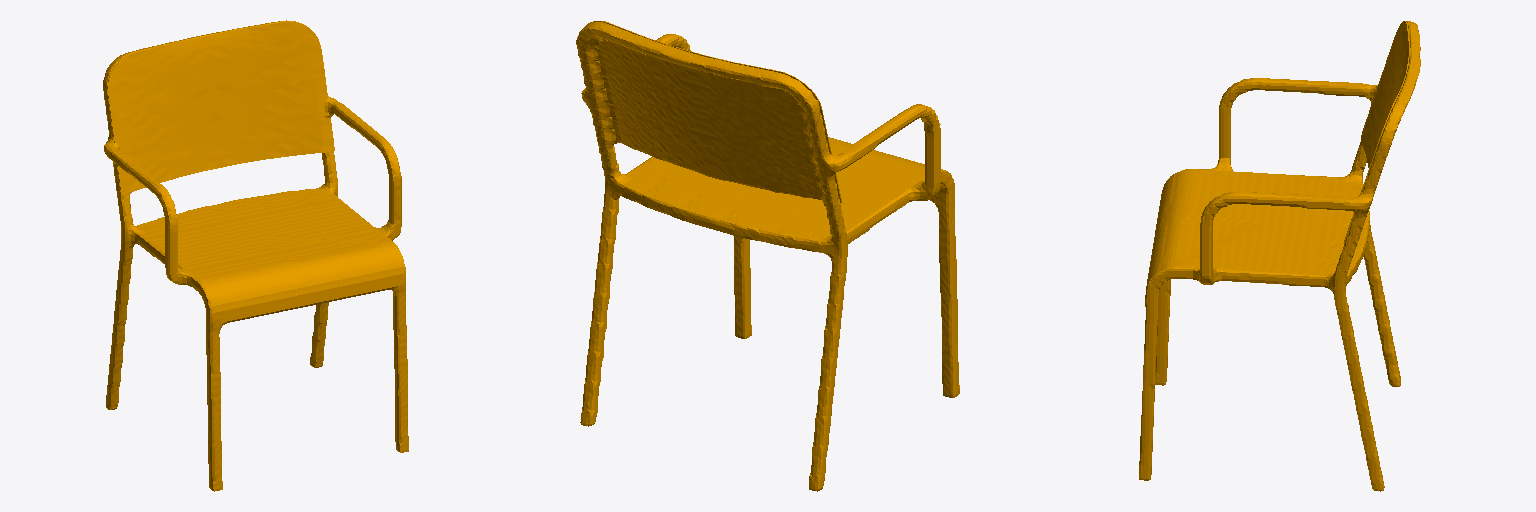
robot.urdf — 03001627_9231ef07326eae09b04cb542e2c50eb4_object3:
<robot name="03001627_9231ef07326eae09b04cb542e2c50eb4_object3">
	<link name="_name">
		<visual>
			<origin xyz="-1.7162537679050962 0.5665410546337165 0.795142105917915" rpy="0.0 0.0 0.0" />
			<geometry>
				<mesh filename="03001627_9231ef07326eae09b04cb542e2c50eb4_object3.obj" />
			</geometry>
		</visual>
		<collision>
			<origin rpy="0.0 0.0 0.0" xyz="-1.7162537679050962 0.5665410546337165 0.795142105917915" />
			<geometry>
				<mesh filename="03001627_9231ef07326eae09b04cb542e2c50eb4_object3_vhacd.obj" />
			</geometry>
		</collision>
		<inertial>
			<origin rpy="0 0 0" xyz="0 0 0" />
			<mass value="1.0" />
			<inertia ixx="0.001" ixy="0.0" ixz="0.0" iyy="0.001" iyz="0.0" izz="0.001" />
		</inertial>
	</link>
</robot>

--- Facts derived from the render (not from the file) ---
Views: 3 orthographic renders of the robot side by side, from view 1: azimuth 30°, elevation 25°; view 2: azimuth 150°, elevation 25°; view 3: azimuth 270°, elevation 25°.
Robot: 03001627_9231ef07326eae09b04cb542e2c50eb4_object3 — 1 links, 0 joints (none); root link _name; default pose: all joints at 0.
Links seen in each view (by area): view 1: _name; view 2: _name; view 3: _name.
Link boxes in pixels (<box>): _name: <box>103,20,408,491</box>; _name: <box>576,21,959,491</box>; _name: <box>1139,21,1420,491</box>.
Size in the robot's own frame: 0.5546 by 0.5354 by 0.7861 metres.
Meshes: 1 distinct files referenced, 1 mesh visuals loaded (1 OBJ).
